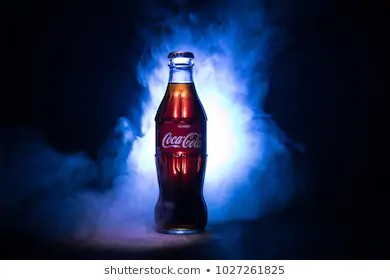coke-glass-bottle: (150, 50, 212, 236)
